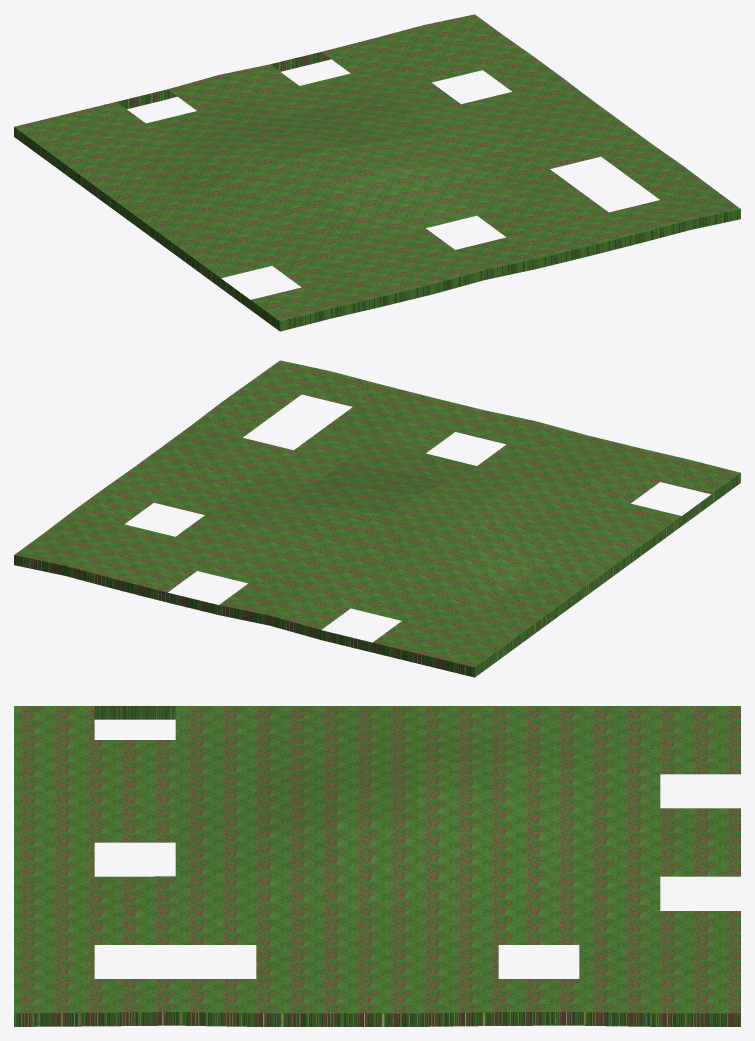
The model's file is rv_terrain_23_lod2.gltf.
The picture shows the model from 3 angles, top to bottom: view 1: azimuth 30°, elevation 25°; view 2: azimuth 150°, elevation 25°; view 3: azimuth 270°, elevation 25°; orthographic projection. The views are drawn at different scales.
Visible parts, largest first — view 1: RV_Terrain_23_lod2; view 2: RV_Terrain_23_lod2; view 3: RV_Terrain_23_lod2.
Boxes of the visible parts, bbox=[...] form: RV_Terrain_23_lod2: bbox=[14, 14, 740, 331]; RV_Terrain_23_lod2: bbox=[14, 360, 740, 677]; RV_Terrain_23_lod2: bbox=[14, 706, 740, 1026].
Bounding box in the file's own units: 72 × 3.9 × 72.
2 materials, 1 textured.
